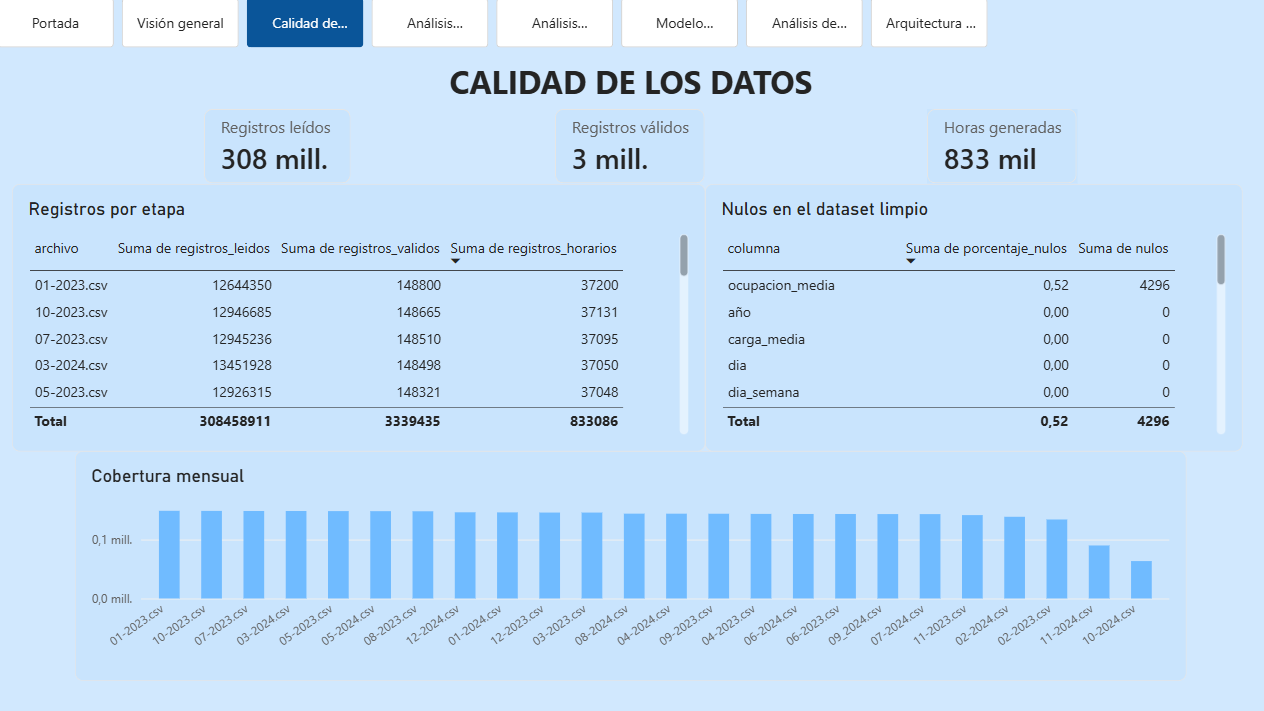

What the dashboard file says about the page in this screenshot:
{"tool":"powerbi","page":{"name":"Calidad de datos","canvas":[1280,720],"ordinal":2},"visuals":[{"type":"pageNavigator","box":[0,0,1000,50],"z":0},{"type":"textbox","box":[0,61.9,1279.5,50.9],"z":1000},{"type":"columnChart","title":"Cobertura mensual","fields":{"Category":["resumen_limpieza_powerbi.archivo"],"Y":["Sum(resumen_limpieza_powerbi.registros_validos)"]},"box":[78.5,457.6,1121.8,232.2],"z":2000},{"type":"cardVisual","fields":{"Data":["resumen_general_powerbi.Registros válidos"]},"box":[563.5,112.7,152,75.1],"z":3000},{"type":"cardVisual","fields":{"Data":["resumen_general_powerbi.Registros leídos"]},"box":[208.3,112.7,148.5,75.1],"z":4000},{"type":"cardVisual","fields":{"Data":["resumen_general_powerbi.Horas generadas"]},"box":[939.1,112.7,152,75.1],"z":5000},{"type":"tableEx","title":"Nulos en el dataset limpio","fields":{"Values":["calidad_datos_powerbi.columna","Sum(calidad_datos_powerbi.porcentaje_nulos)","Sum(calidad_datos_powerbi.nulos)"]},"box":[715.4,187.8,543,269.8],"z":7000},{"type":"tableEx","title":"Registros por etapa","fields":{"Values":["resumen_limpieza_powerbi.archivo","Sum(resumen_limpieza_powerbi.registros_leidos)","Sum(resumen_limpieza_powerbi.registros_validos)","Sum(resumen_limpieza_powerbi.registros_horarios)"]},"box":[15.4,187.8,700.1,269.8],"z":8000}]}

Visuals, with their boxes on the page's 1280x720 design canvas (x1, y1, x2, y2). These are canvas units, not pixel positions in the 1264x711 screenshot, which may show the page scaled, cropped or inside an application window:
pageNavigator: (x1=0, y1=0, x2=1000, y2=50)
textbox: (x1=0, y1=62, x2=1280, y2=113)
"Cobertura mensual" columnChart: (x1=78, y1=458, x2=1200, y2=690)
cardVisual - resumen_general_powerbi.Registros válidos: (x1=564, y1=113, x2=716, y2=188)
cardVisual - resumen_general_powerbi.Registros leídos: (x1=208, y1=113, x2=357, y2=188)
cardVisual - resumen_general_powerbi.Horas generadas: (x1=939, y1=113, x2=1091, y2=188)
"Nulos en el dataset limpio" tableEx: (x1=715, y1=188, x2=1258, y2=458)
"Registros por etapa" tableEx: (x1=15, y1=188, x2=716, y2=458)
